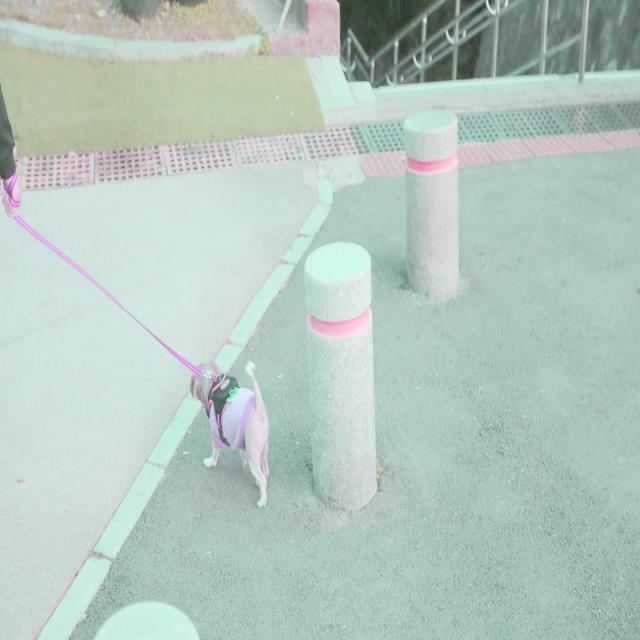Leashed_Dog: (0, 161, 272, 510)
